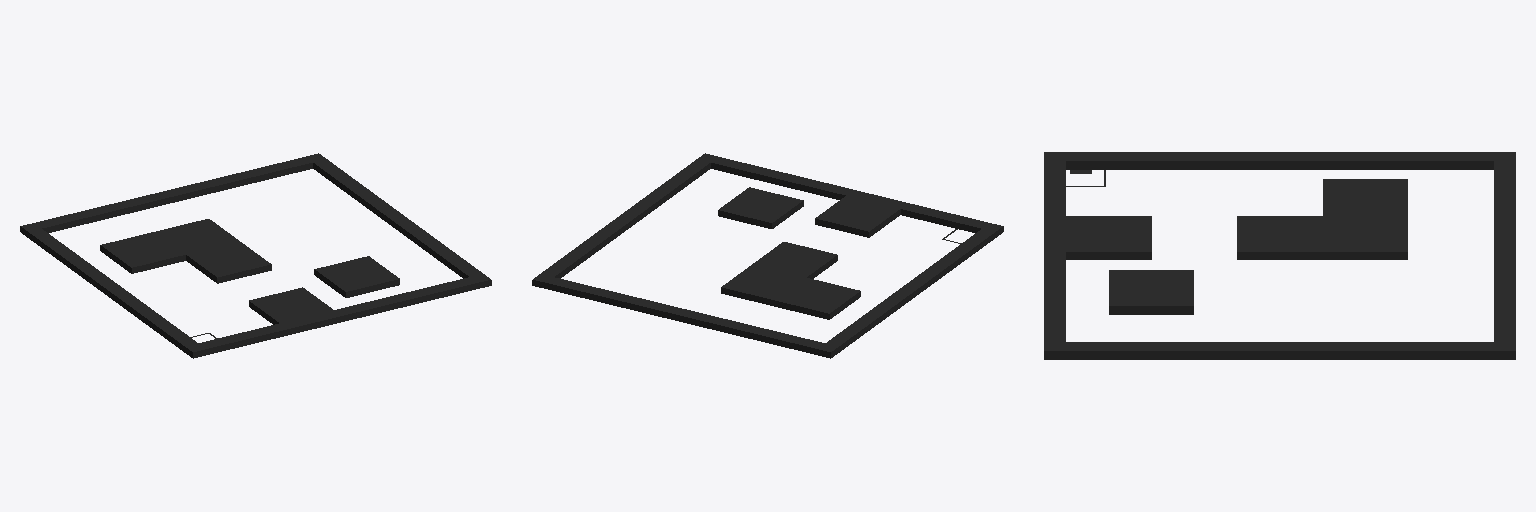
The robot description file, URDF, robot "Room33":
<robot name="Room33">
    <link name="_name">
        <visual> 
            <origin rpy="0.0 0.0 0.0" xyz="-0.46587684551995645 -0.47259609097618965 -0.010000000000000002" />
                <geometry>
                    <mesh filename="Room33/Room33.obj" scale="1 1 0.1" />
                </geometry>

            <material name="black">
                <color rgba="0.2 0.2 0.2 0.95" />
            </material>
        </visual>

       <collision concave="yes" name="collision_0">
            <origin rpy="0.0 0.0 0.0" xyz="-0.46587684551995645 -0.47259609097618965 -0.010000000000000002" />
            <geometry>
                <mesh filename="Room33/Room33_vhacd.obj" scale="1 1 0.1" />
            </geometry>
        </collision>

        <inertial> 
            <mass value="0" />
            <inertia ixx="0" ixy="0" ixz="0" iyy="0" iyz="0" izz="0" />
        </inertial> 
    </link>
</robot>

--- Facts derived from the render (not from the file) ---
3 views of the same robot in one strip: view 1: azimuth 30°, elevation 25°; view 2: azimuth 150°, elevation 25°; view 3: azimuth 270°, elevation 25° (orthographic).
Robot: Room33 — 1 links, 0 joints (none); root link _name; default pose: all joints at 0.
Links seen in each view (by area): view 1: _name; view 2: _name; view 3: _name.
Boxes of the visible links, box(x1,y1,x2,y2) form: _name: box(20, 153, 491, 358); _name: box(532, 153, 1003, 358); _name: box(1044, 152, 1515, 359).
Size in the robot's own frame: 1 by 1 by 0.02 metres.
1 mesh visuals loaded from 1 distinct referenced files (1 OBJ).
